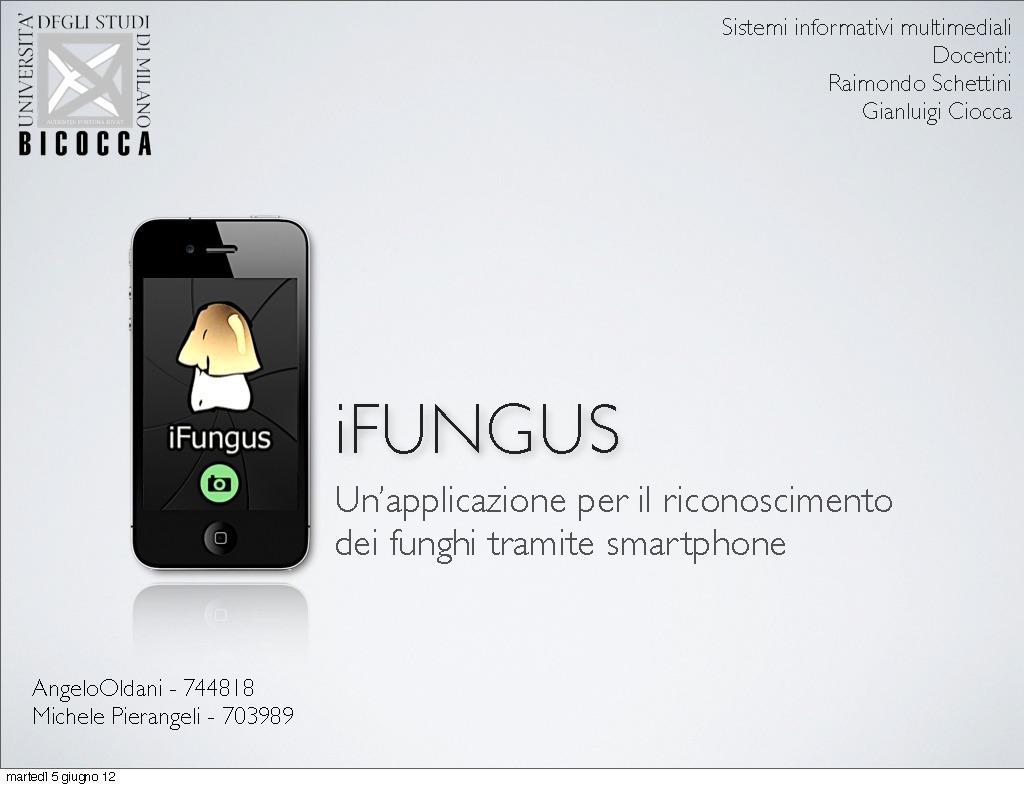subtitle: (330, 377, 968, 591), (22, 675, 332, 754)
title: (717, 6, 1024, 132)
